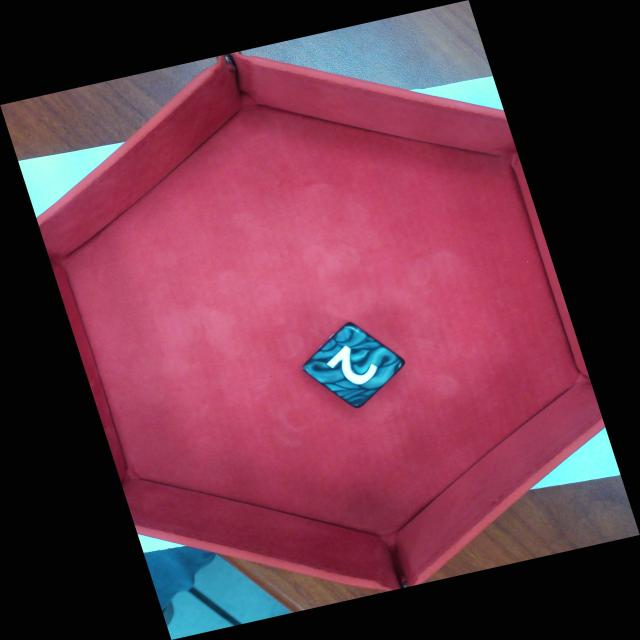dice: (300, 323, 406, 409)
